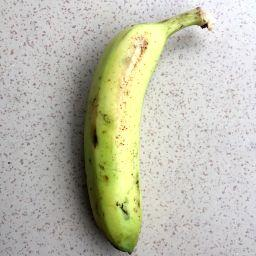Banana Ripe: (79, 7, 216, 253)
